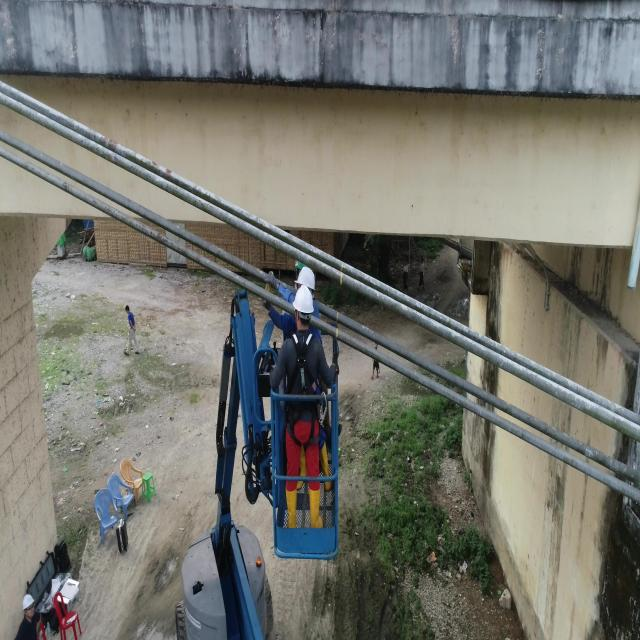corrosion: (109, 140, 118, 150), (101, 137, 107, 145), (165, 168, 171, 176), (152, 161, 156, 171)
crack: (220, 210, 222, 218), (418, 315, 420, 322)
